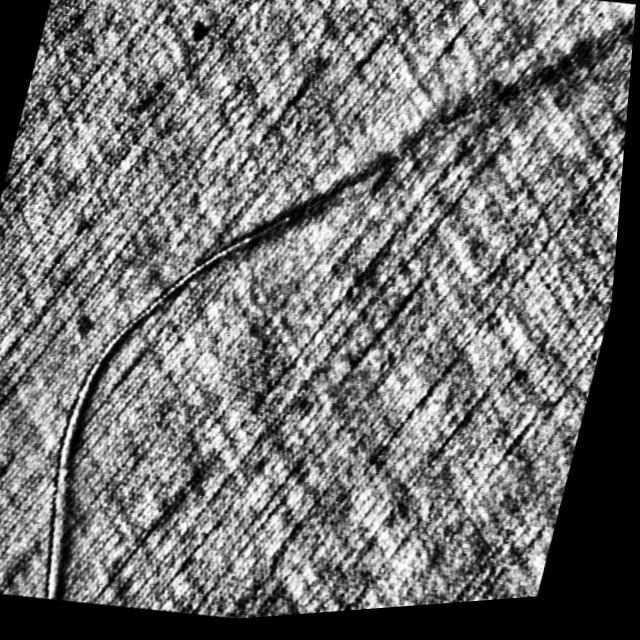Stitch: (28, 0, 638, 404), (0, 139, 317, 634), (0, 222, 259, 622)
